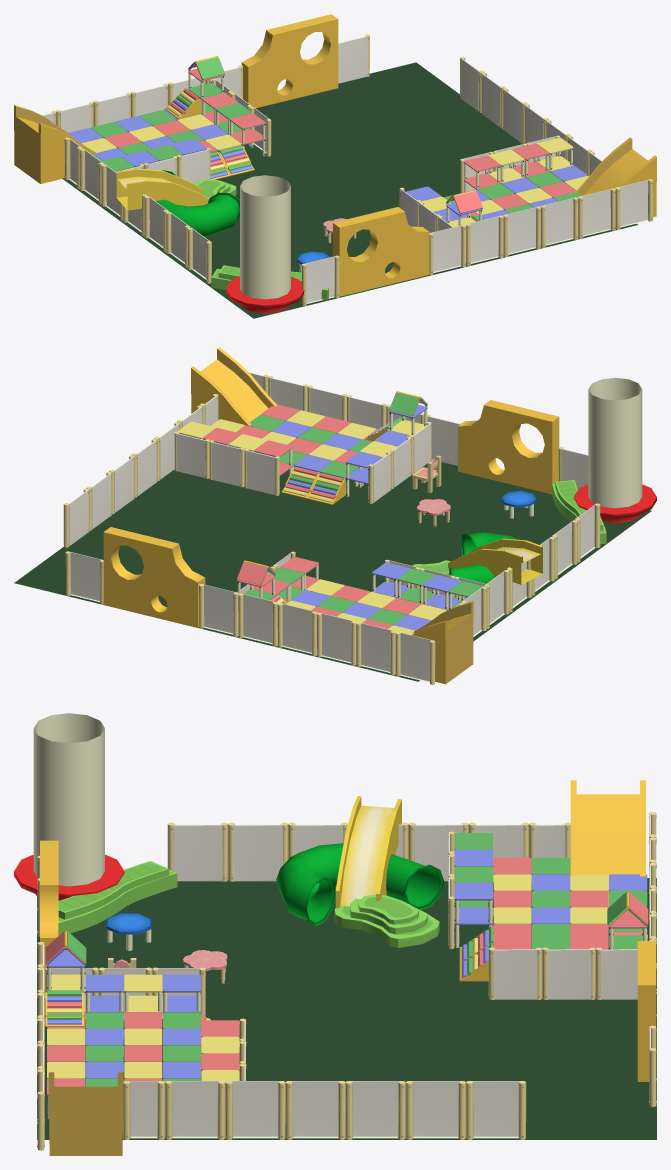
Rendered from map_export.FBX.
3 renders of one model, top to bottom at view 1: azimuth 30°, elevation 25°; view 2: azimuth 150°, elevation 25°; view 3: azimuth 270°, elevation 25°, orthographic. The views are drawn at different scales.
Parts seen in each view (by area): view 1: Plane001, Box290, Cylinder009, Box034, Box035, Box195, Cylinder013, Box241, Box197, Box191, Box262, Box128 (+5 smaller); view 2: Box290, Plane001, Cylinder009, Box034, Box035, Box241, Box195, Box197, Box191, Box128, Cylinder013, Box262 (+5 smaller); view 3: Plane001, Box290, Cylinder009, Cylinder013, Cylinder032, Box241, Box195, Box197, Box191, Box262, Box128, Cylinder029 (+5 smaller).
Boxes of the visible parts, x1,y1,x2,y2 form: Plane001: (62, 62, 637, 318); Box290: (42, 34, 653, 305); Cylinder009: (211, 175, 330, 313); Box034: (241, 14, 338, 108); Box035: (333, 207, 429, 296); Box195: (105, 68, 575, 217); Cylinder013: (116, 168, 239, 237); Box241: (69, 109, 587, 225); Box197: (81, 114, 588, 227); Box191: (91, 83, 582, 219); Box262: (14, 105, 95, 183); Box128: (575, 137, 656, 217); Box290: (63, 372, 600, 684); Plane001: (14, 461, 651, 681); Cylinder009: (501, 377, 656, 544); Box034: (103, 527, 205, 627); Box035: (458, 400, 559, 494); Box241: (197, 404, 461, 630); Box195: (203, 404, 421, 629); Box197: (177, 410, 446, 634); Box191: (221, 415, 483, 625); Box128: (191, 347, 277, 425); Cylinder013: (412, 532, 542, 584); Box262: (412, 601, 473, 684); Plane001: (37, 878, 656, 1139); Box290: (37, 812, 656, 1150); Cylinder009: (14, 713, 177, 950); Cylinder013: (276, 796, 444, 947); Cylinder032: (276, 797, 444, 947); Box241: (47, 849, 647, 1078); Box195: (47, 857, 647, 1118); Box197: (47, 874, 608, 1099); Box191: (85, 833, 647, 1086); Box262: (570, 780, 645, 907); Box128: (48, 1072, 123, 1155); Cylinder029: (45, 926, 493, 1026).
Bounding box in the file's own units: 4461 × 1183 × 4149.
